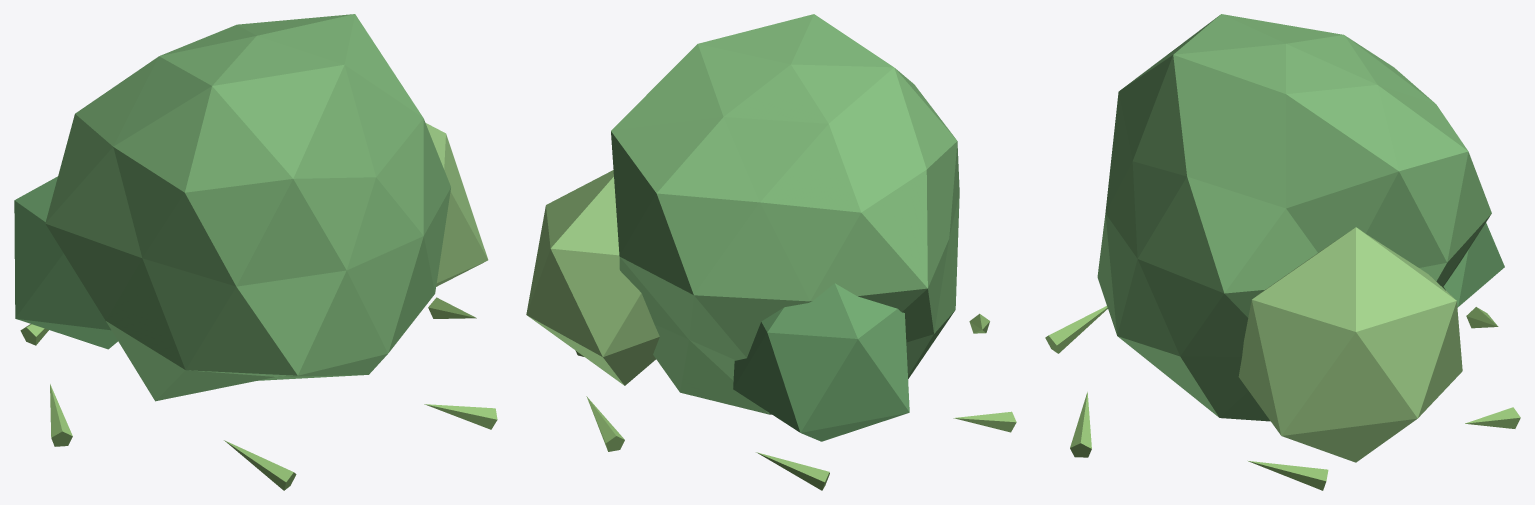
File: 50-Vegetacion_arbusto_redondo.glb
The picture shows the model from 3 angles, left to right: view 1: azimuth 30°, elevation 25°; view 2: azimuth 150°, elevation 25°; view 3: azimuth 270°, elevation 25°; orthographic projection. The views are drawn at different scales.
Visible parts, largest first — view 1: SM_Arbusto_M_Arbusto, SM_Arbusto_M_Arbusto_Oscuro, SM_Arbusto_M_Arbusto_Claro, SM_Arbusto_M_Pasto_Base; view 2: SM_Arbusto_M_Arbusto, SM_Arbusto_M_Arbusto_Oscuro, SM_Arbusto_M_Arbusto_Claro, SM_Arbusto_M_Pasto_Base; view 3: SM_Arbusto_M_Arbusto, SM_Arbusto_M_Arbusto_Claro, SM_Arbusto_M_Pasto_Base, SM_Arbusto_M_Arbusto_Oscuro.
Boxes of the visible parts, <box> form: SM_Arbusto_M_Arbusto: <box>45,14,450,401</box>; SM_Arbusto_M_Arbusto_Oscuro: <box>14,176,117,349</box>; SM_Arbusto_M_Arbusto_Claro: <box>425,123,488,286</box>; SM_Arbusto_M_Pasto_Base: <box>20,297,497,490</box>; SM_Arbusto_M_Arbusto: <box>611,14,959,414</box>; SM_Arbusto_M_Arbusto_Oscuro: <box>733,283,909,441</box>; SM_Arbusto_M_Arbusto_Claro: <box>526,170,659,385</box>; SM_Arbusto_M_Pasto_Base: <box>575,313,1016,490</box>; SM_Arbusto_M_Arbusto: <box>1097,14,1491,421</box>; SM_Arbusto_M_Arbusto_Claro: <box>1238,227,1462,462</box>; SM_Arbusto_M_Pasto_Base: <box>1045,306,1520,490</box>; SM_Arbusto_M_Arbusto_Oscuro: <box>1443,222,1504,307</box>.
Bounding box in the file's own units: 2.25 × 1.68 × 2.04.
